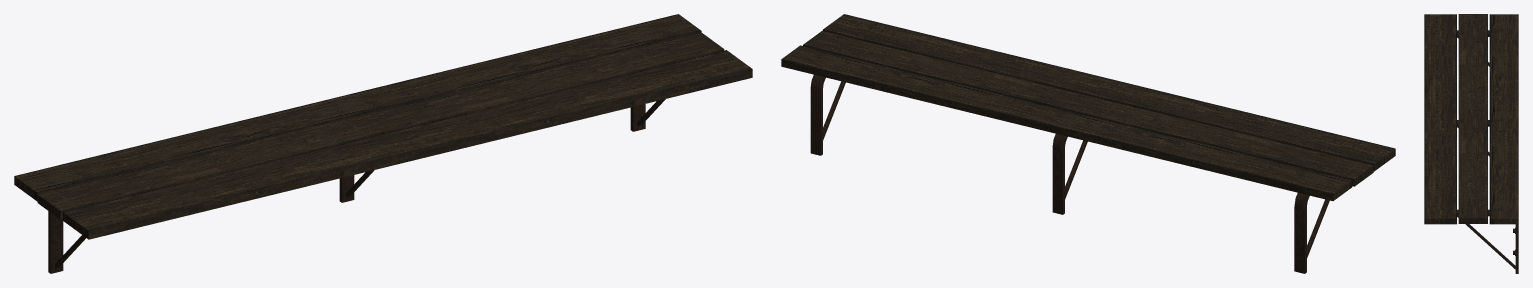
Rendered from hanging_shelf_mx_2_1.glb.
3 views of the same model, side by side, from view 1: azimuth 30°, elevation 25°; view 2: azimuth 150°, elevation 25°; view 3: azimuth 270°, elevation 25° (orthographic). The views are drawn at different scales.
Visible parts, largest first — view 1: hanging_shelf_mx_2_1; view 2: hanging_shelf_mx_2_1; view 3: hanging_shelf_mx_2_1.
Boxes of the visible parts, x1,y1,x2,y2 form: hanging_shelf_mx_2_1: [14, 14, 752, 273]; hanging_shelf_mx_2_1: [781, 14, 1395, 273]; hanging_shelf_mx_2_1: [1424, 14, 1518, 273].
Size of the model in its own units: 1.6 by 0.24 by 0.312.
2 materials, 2 textured.
